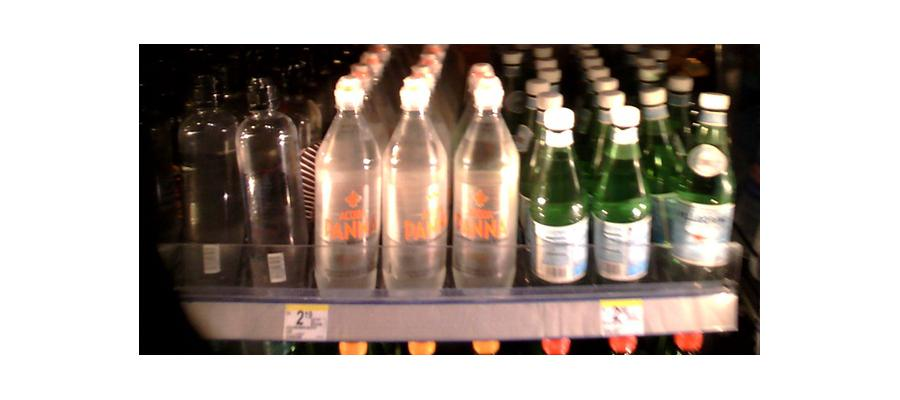bottle: (305, 79, 378, 296), (655, 95, 735, 285), (451, 79, 518, 297), (234, 79, 301, 291), (380, 85, 446, 300), (179, 96, 238, 290), (593, 101, 650, 294), (529, 106, 588, 289)
